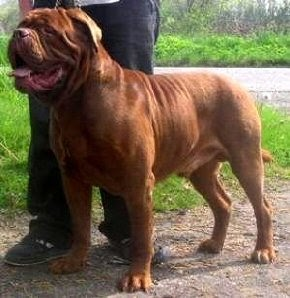dogue_de_bordeaux: (6, 6, 275, 293)
person: (5, 0, 169, 269)
